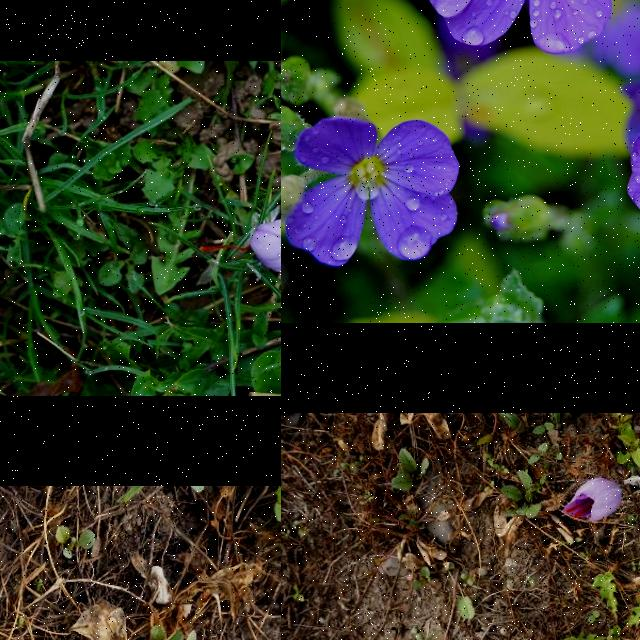flower: (198, 220, 281, 274), (561, 476, 621, 520)
